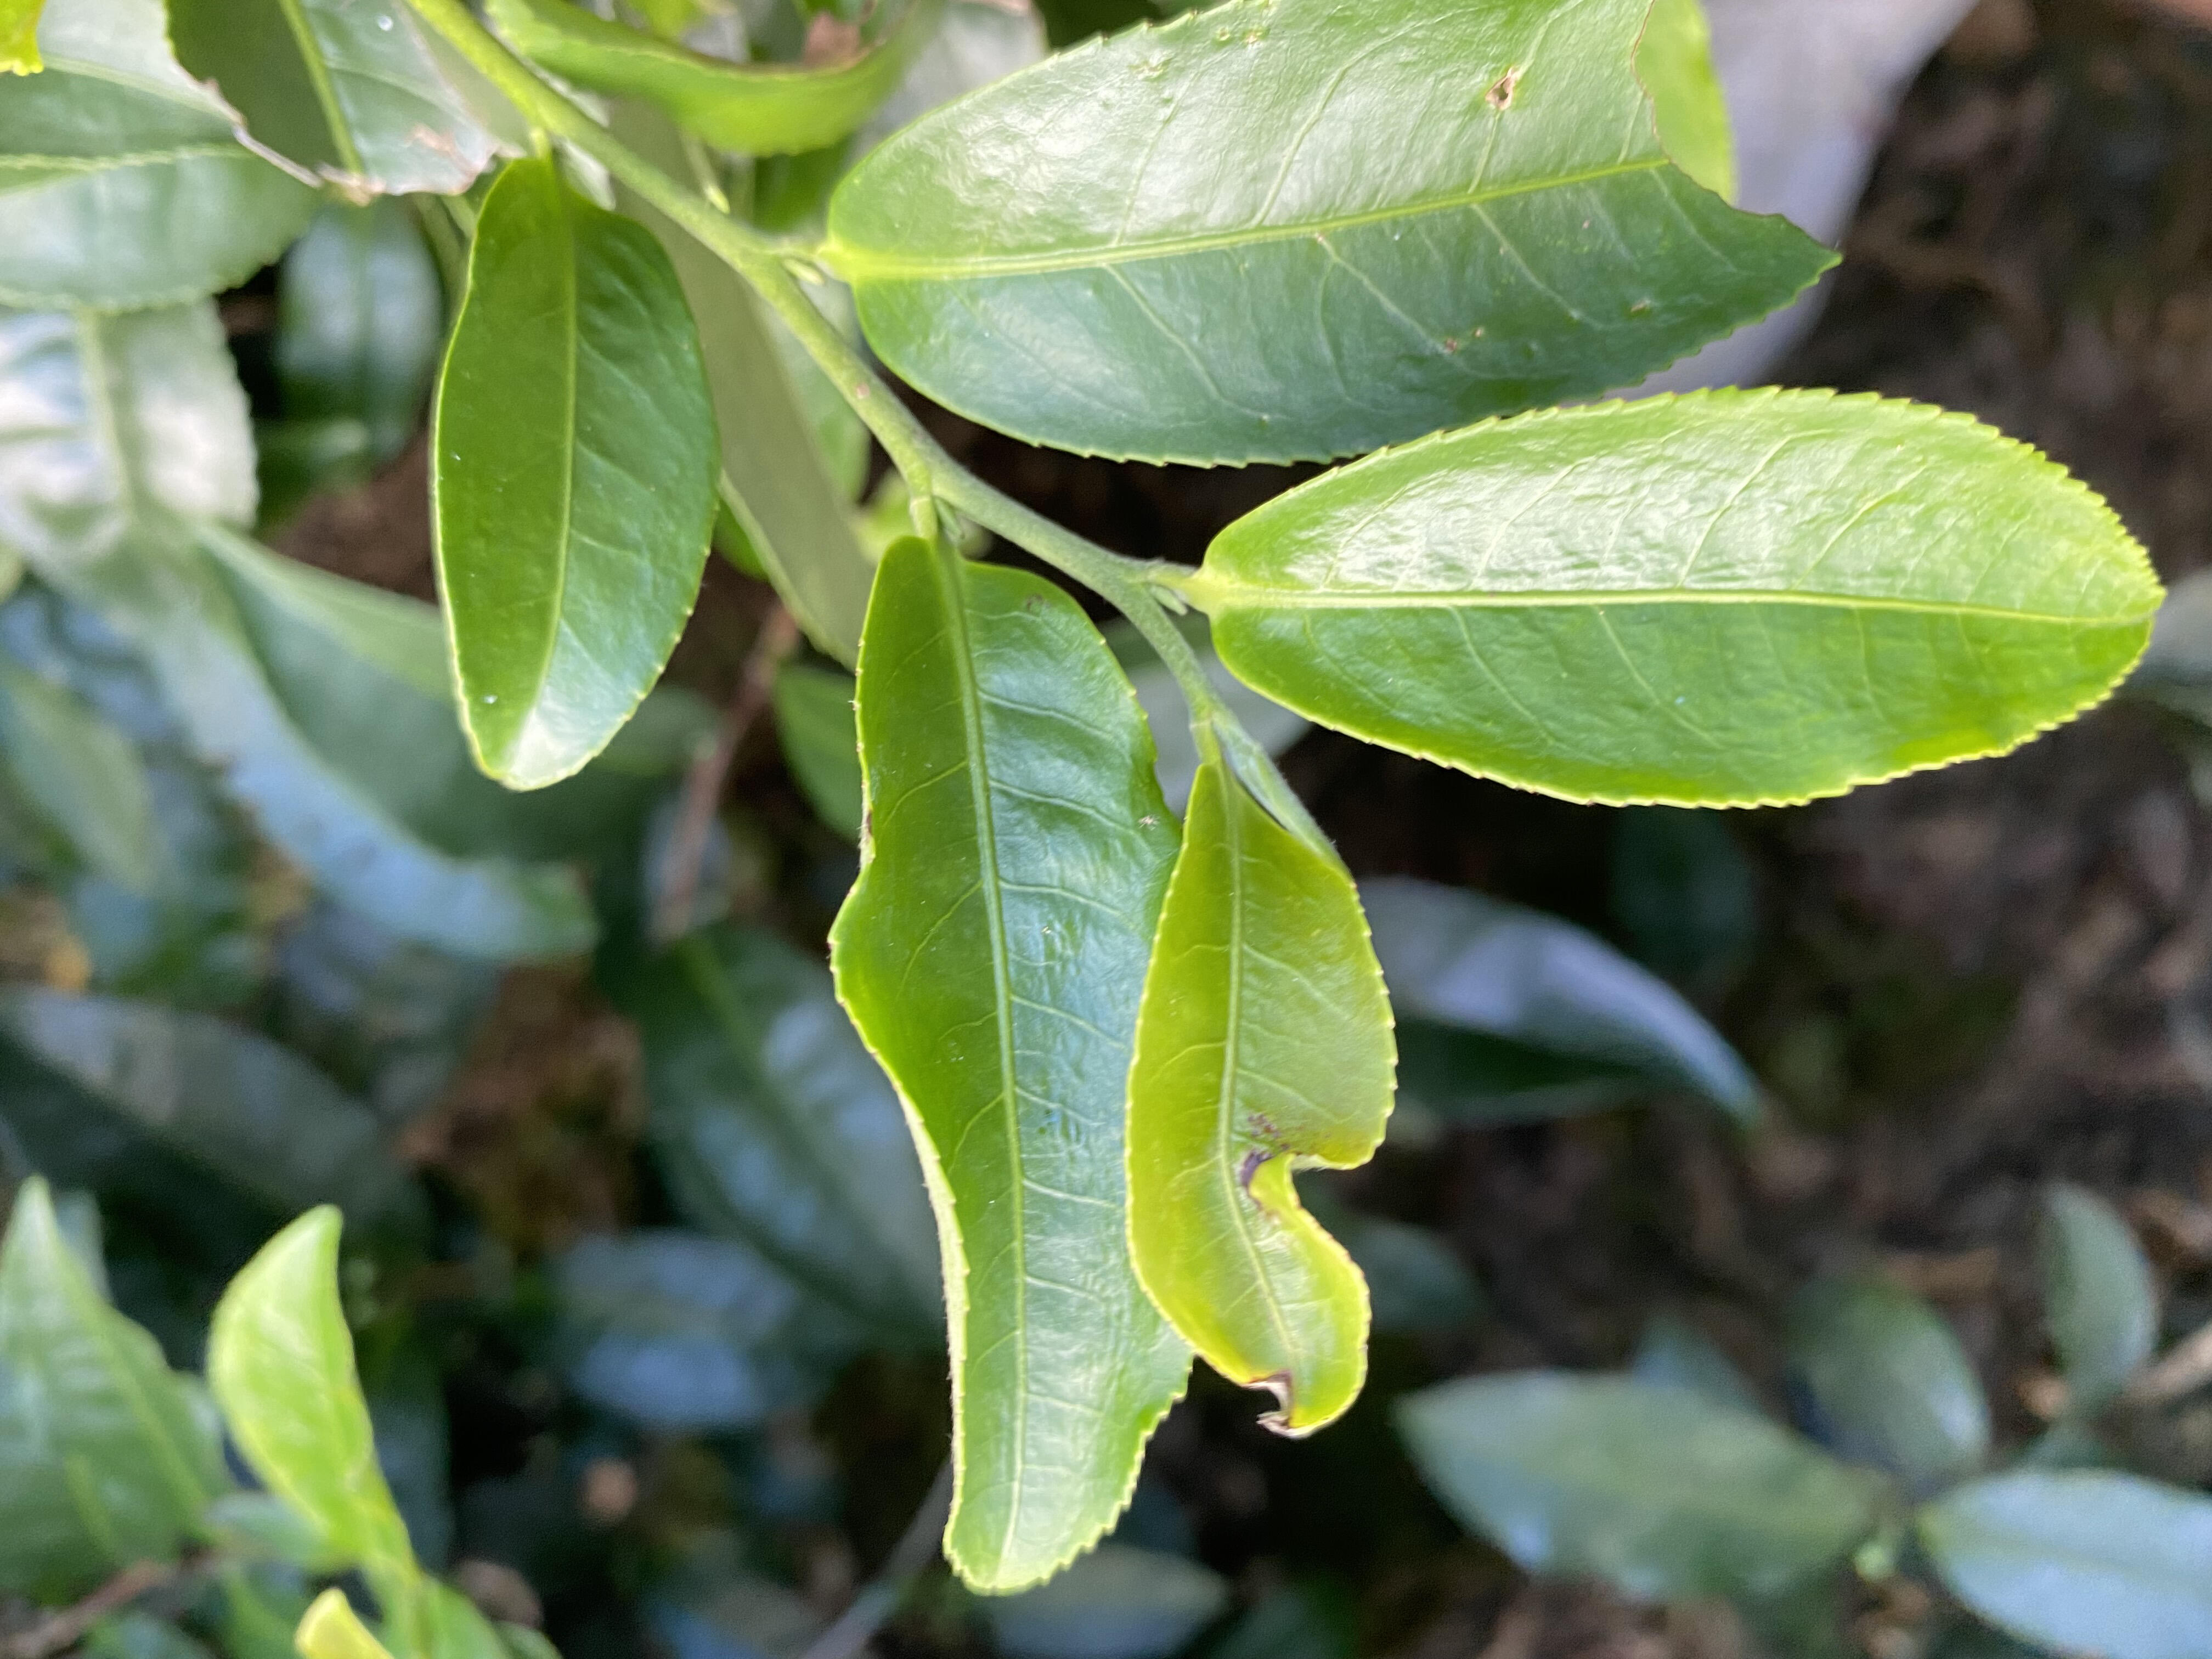chihuo_high: (822, 2, 1851, 472)
healthy: (1200, 382, 2172, 817), (423, 157, 726, 793)
tanju_high: (1120, 763, 1402, 1438)
